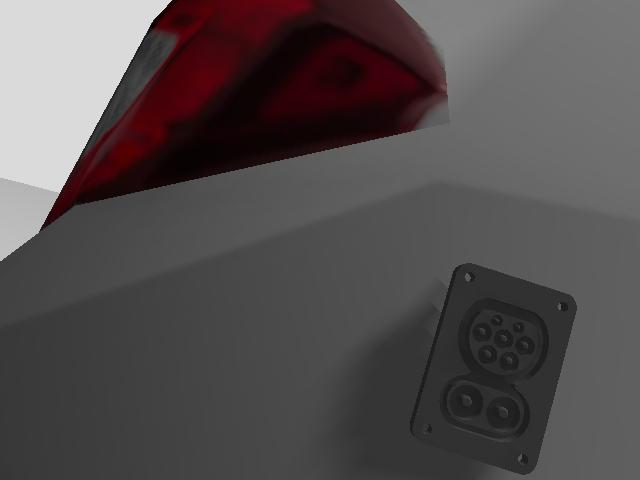EV-socket: (410, 263, 575, 473)
